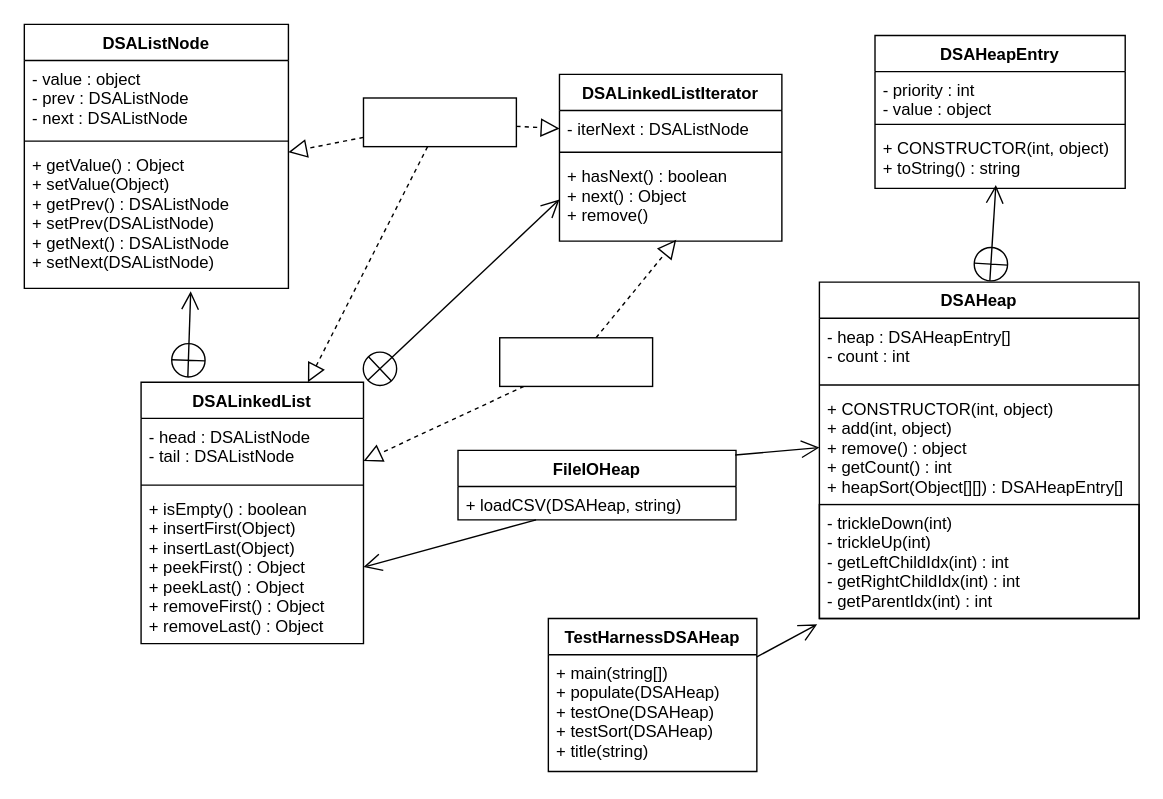
The diagram is 1163 pixels wide and 799 high, and some of its shapes have lost their labels. The shapes that lost their labels are listed below. From the top down, each one's centre as x and y in pixels, then its label:
At [439,122]: "<<Interface>> Serializable".
At [575,361]: "<<Interface>> Iterable".
